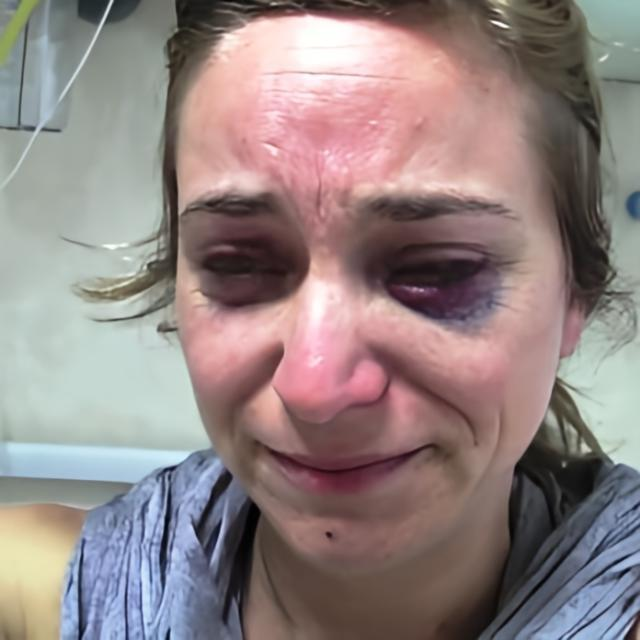sad: (171, 33, 569, 593)
